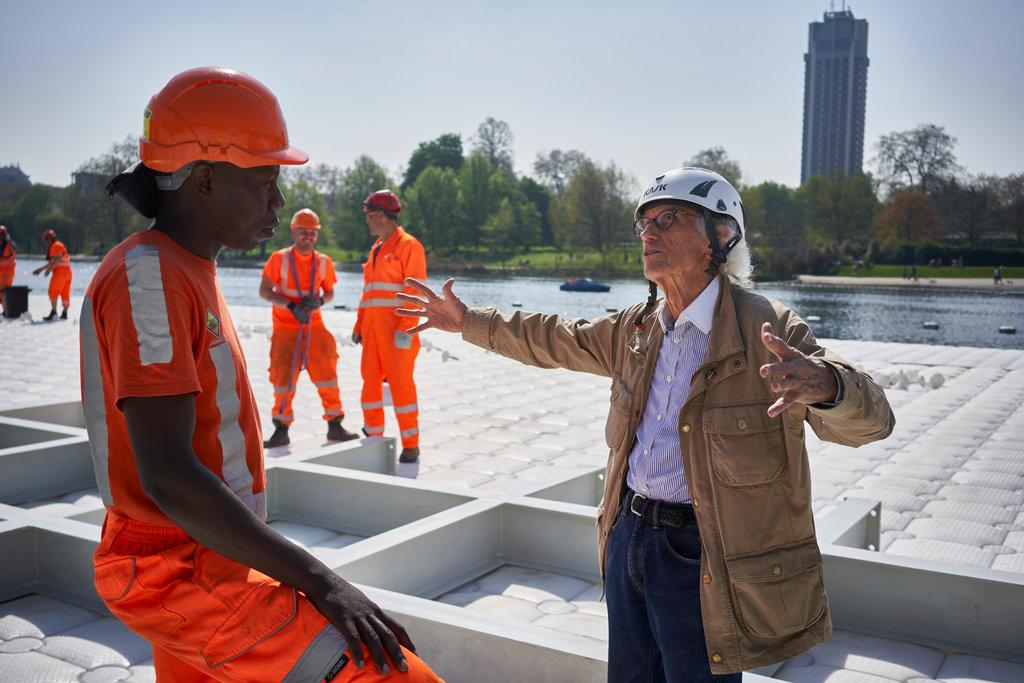helmet: (137, 63, 311, 174), (635, 166, 750, 250), (364, 189, 405, 217), (290, 207, 324, 237), (39, 228, 57, 245)
